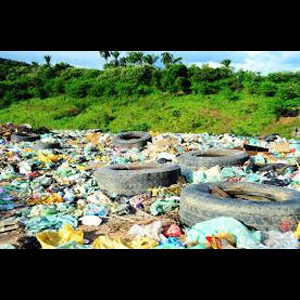tire: (178, 181, 300, 233), (95, 162, 180, 195), (181, 149, 249, 171), (112, 131, 152, 152), (10, 132, 39, 144)
